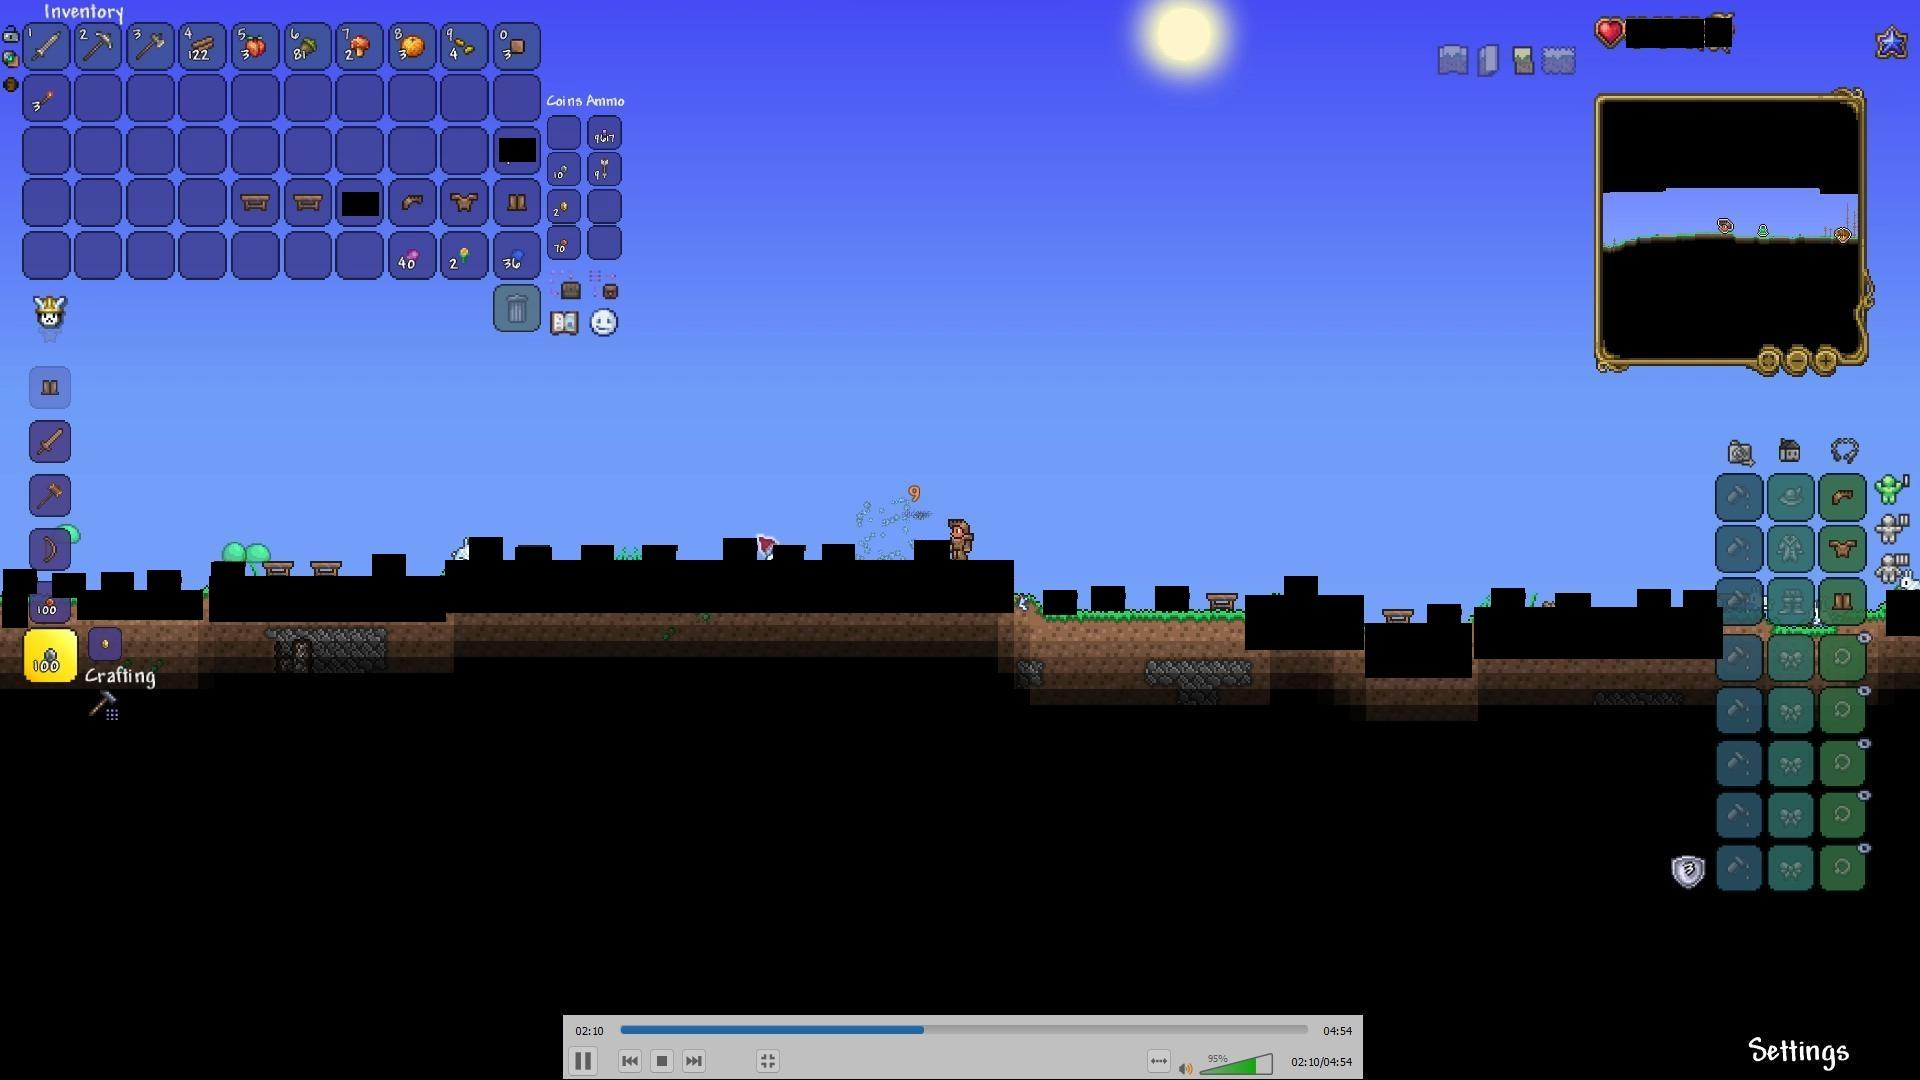breastplate: (1832, 537, 1859, 558), (448, 190, 477, 210)
dirt: (1014, 609, 1247, 662)
heart: (1598, 16, 1626, 44)
helmet: (400, 190, 429, 215), (1829, 484, 1857, 509)
legs: (505, 186, 530, 214), (37, 375, 62, 402), (1833, 587, 1857, 615)
slime: (215, 531, 247, 559), (248, 531, 280, 559)
wood: (189, 33, 218, 61)
workbench: (237, 190, 274, 214), (287, 190, 323, 214), (309, 554, 342, 578), (260, 558, 293, 582), (1382, 607, 1415, 630), (1204, 588, 1237, 612)
